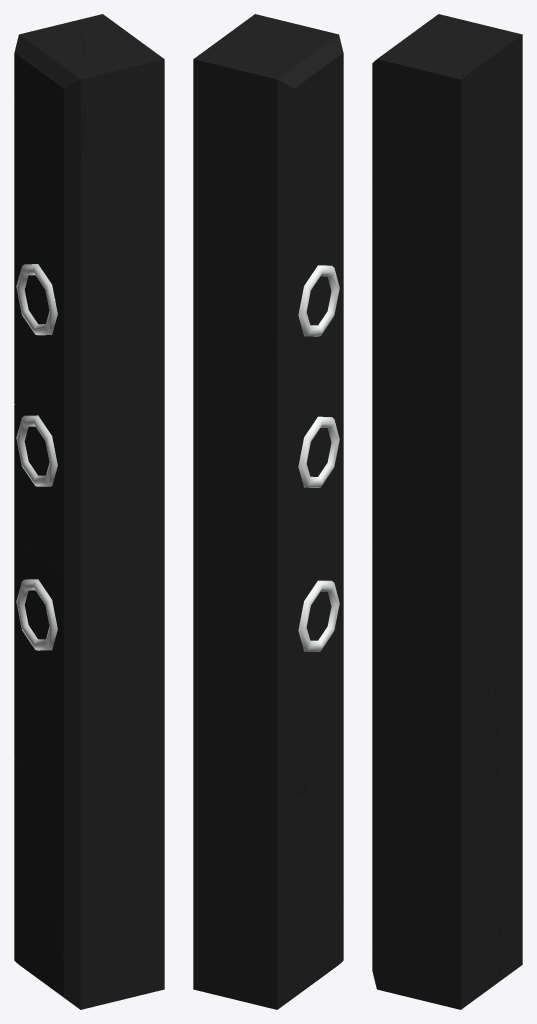
File: Loa_Fractured.fbx
3 renders of one model, left to right at view 1: azimuth 30°, elevation 25°; view 2: azimuth 150°, elevation 25°; view 3: azimuth 330°, elevation 25°, orthographic.
Visible parts, largest first — view 1: loa1_cell.001, loa1_cell, loa1_cell.003, loa1_cell.004, loa1_cell.006, loa1_cell.002, loa1_cell.005, loa1.002, loa1.003, loa1.001; view 2: loa1_cell.001, loa1_cell.005, loa1_cell.003, loa1_cell.004, loa1_cell, loa1_cell.002, loa1_cell.006, loa1.003, loa1.001, loa1.002; view 3: loa1_cell.001, loa1_cell, loa1_cell.005, loa1_cell.006, loa1_cell.002, loa1_cell.003.
Boxes of the visible parts, left/top/right/bottom form: loa1_cell.001: left=14, top=14, right=164, bottom=572; loa1_cell: left=24, top=548, right=164, bottom=1009; loa1_cell.003: left=14, top=83, right=85, bottom=403; loa1_cell.004: left=14, top=760, right=75, bottom=1006; loa1_cell.006: left=71, top=43, right=164, bottom=105; loa1_cell.002: left=14, top=20, right=85, bottom=99; loa1_cell.005: left=14, top=536, right=28, bottom=771; loa1.002: left=16, top=415, right=57, bottom=486; loa1.003: left=16, top=579, right=57, bottom=650; loa1.001: left=16, top=264, right=57, bottom=335; loa1_cell.001: left=193, top=30, right=343, bottom=572; loa1_cell.005: left=193, top=549, right=307, bottom=997; loa1_cell.003: left=256, top=44, right=343, bottom=439; loa1_cell.004: left=227, top=793, right=343, bottom=1009; loa1_cell: left=304, top=535, right=343, bottom=924; loa1_cell.002: left=218, top=40, right=339, bottom=148; loa1_cell.006: left=233, top=14, right=341, bottom=44; loa1.003: left=298, top=580, right=339, bottom=651; loa1.001: left=298, top=265, right=339, bottom=336; loa1.002: left=298, top=416, right=339, bottom=487; loa1_cell.001: left=372, top=28, right=522, bottom=571; loa1_cell: left=372, top=546, right=500, bottom=1009; loa1_cell.005: left=493, top=525, right=522, bottom=980; loa1_cell.006: left=374, top=49, right=482, bottom=105; loa1_cell.002: left=385, top=14, right=497, bottom=53; loa1_cell.003: left=372, top=61, right=381, bottom=250.
Bounding box in the file's own units: 123 × 1098 × 132.
